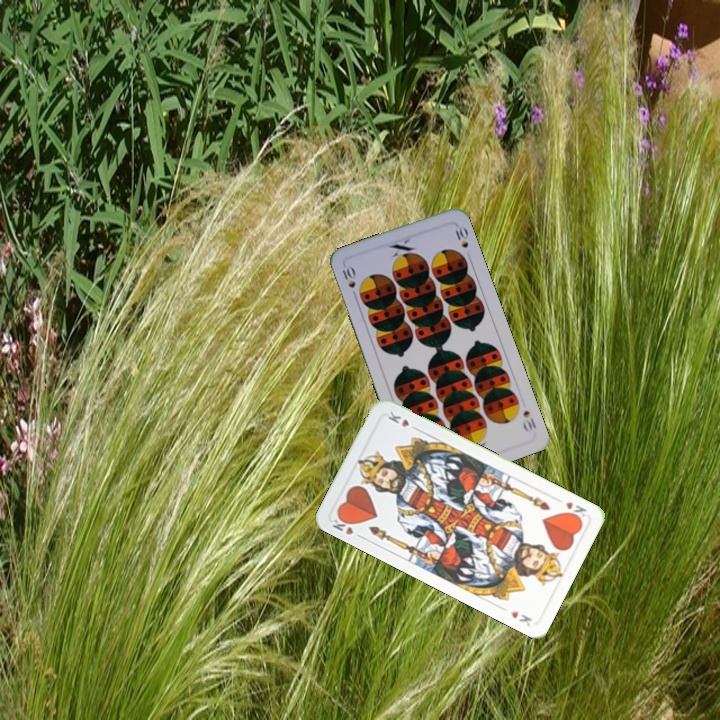HK: (328, 511, 358, 537), (561, 497, 589, 522)
S10: (336, 261, 359, 301), (518, 406, 539, 435)
